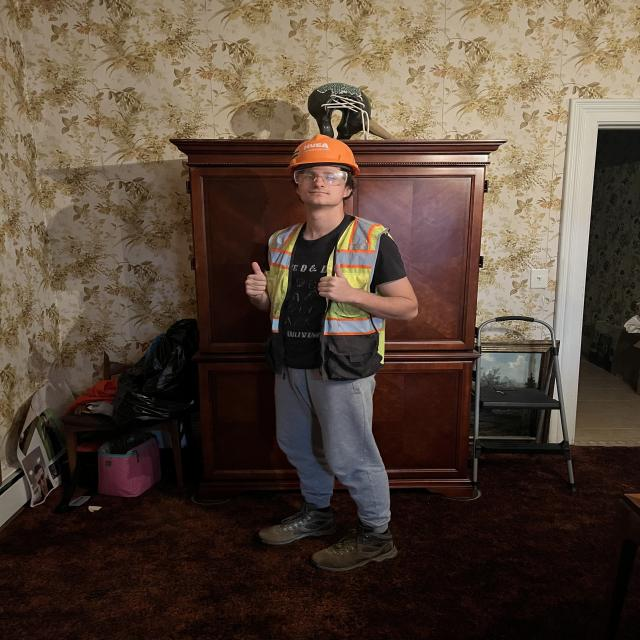Boots: (309, 524, 403, 574), (249, 501, 344, 549)
Hard Hat: (288, 133, 364, 174)
Reflective Vest: (262, 212, 393, 338)
Safety Glasses: (290, 166, 356, 189)
